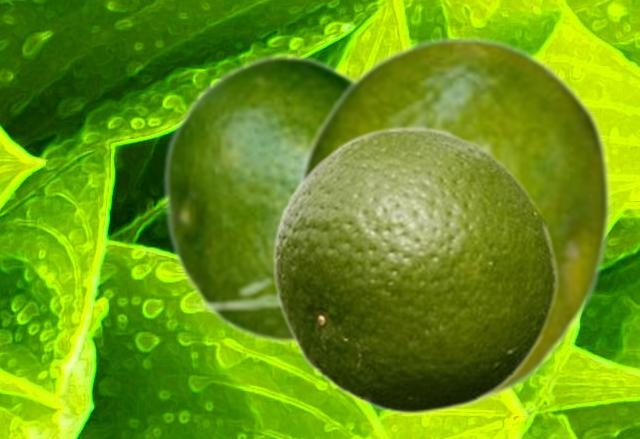calamansi: (191, 34, 611, 405), (272, 123, 558, 415), (161, 52, 354, 344)
